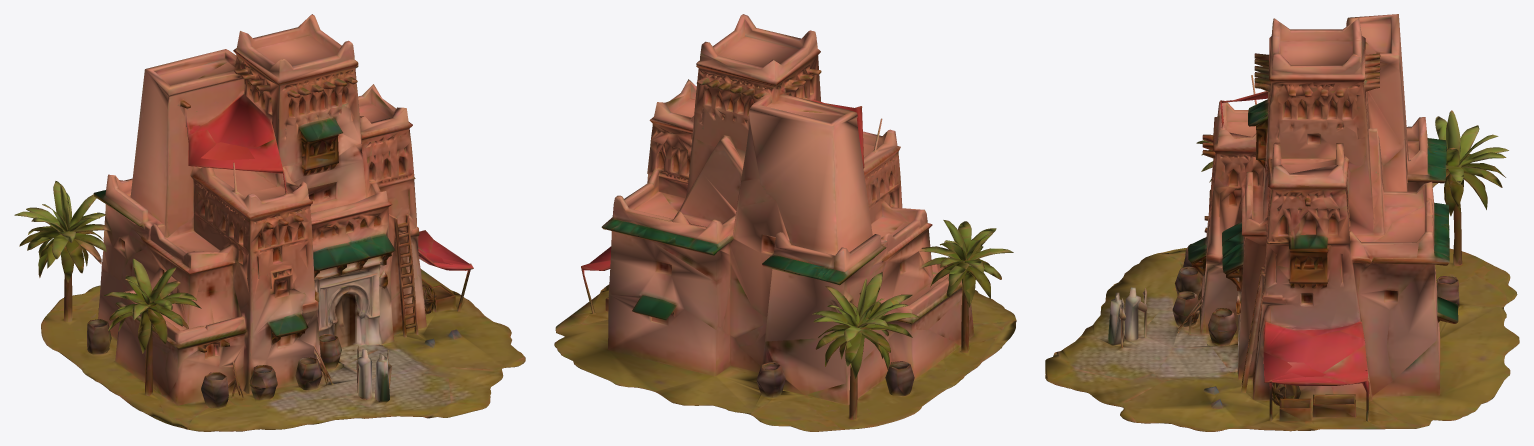
The model's file is house_base.glb.
The picture shows the model from 3 angles, left to right: view 1: azimuth 30°, elevation 25°; view 2: azimuth 150°, elevation 25°; view 3: azimuth 270°, elevation 25°; orthographic projection. The views are drawn at different scales.
Parts seen in each view (by area): view 1: material; view 2: material; view 3: material.
Part boxes in pixels (x1=…): material: x1=14, y1=14, x2=525, y2=431; material: x1=554, y1=14, x2=1016, y2=431; material: x1=1045, y1=14, x2=1519, y2=431.
Size of the model in its own units: 0.8741 by 0.6518 by 0.8993.
1 material, 1 textured.
